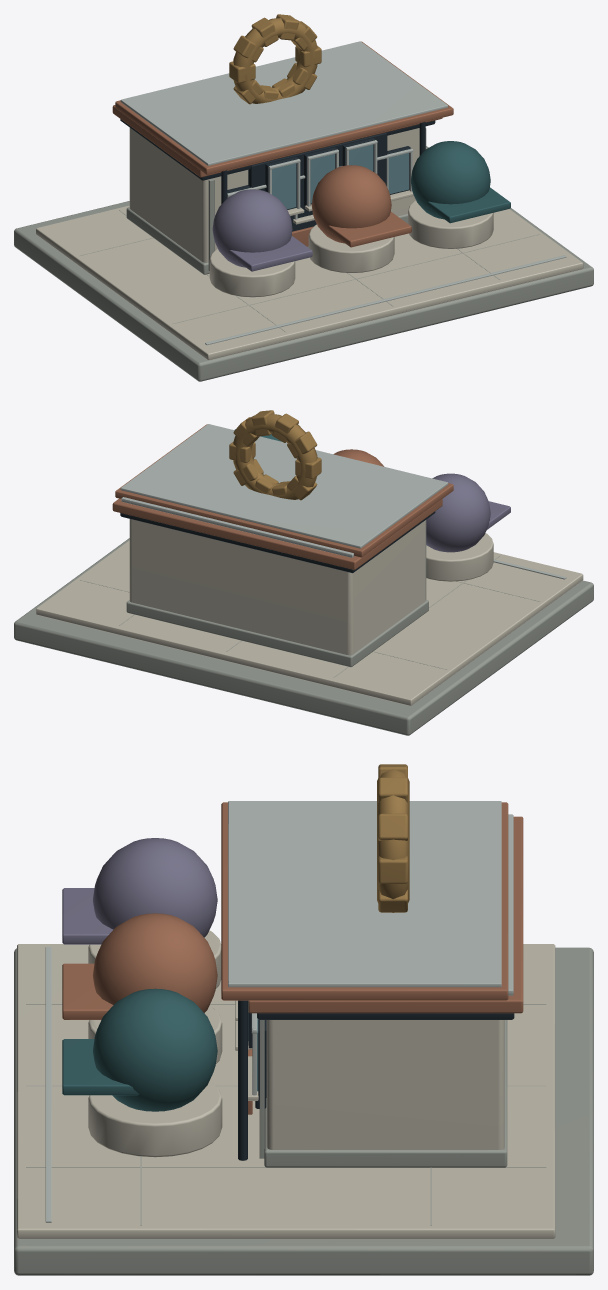
File: idea-4af9ad08.glb
The picture shows the model from 3 angles, top to bottom: view 1: azimuth 30°, elevation 25°; view 2: azimuth 150°, elevation 25°; view 3: azimuth 270°, elevation 25°; orthographic projection. The views are drawn at different scales.
Visible parts, largest first — view 1: Titanium Team Merch; view 2: Titanium Team Merch; view 3: Titanium Team Merch.
Part boxes in pixels (bbox=[...]): Titanium Team Merch: bbox=[14, 14, 593, 381]; Titanium Team Merch: bbox=[14, 410, 593, 735]; Titanium Team Merch: bbox=[14, 764, 593, 1275].
Size of the model in its own units: 4.8 by 2.63 by 3.9.
